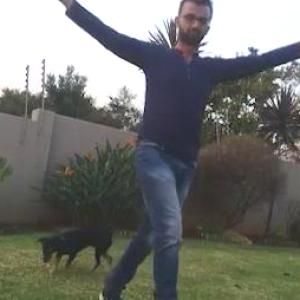takeoff: (42, 0, 299, 297)
